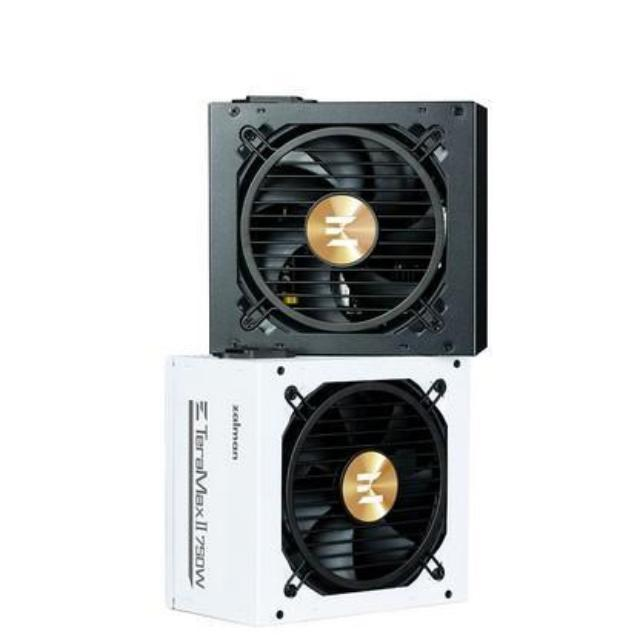PSU: (178, 79, 500, 381)
